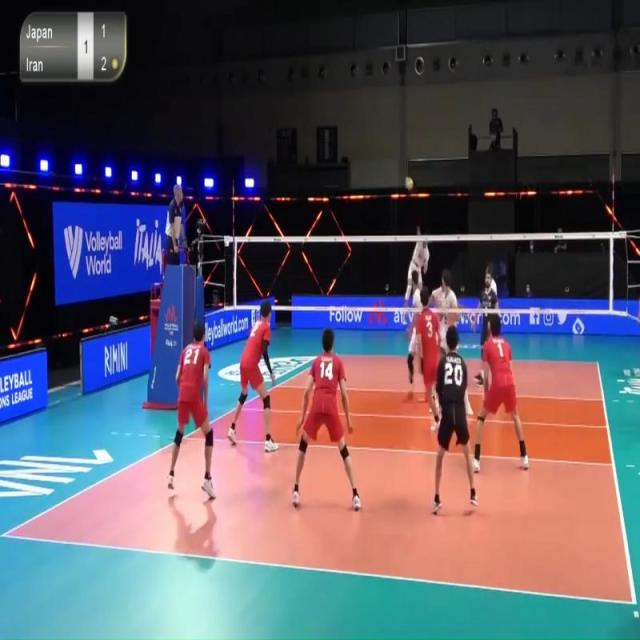volleyball: (404, 174, 415, 192)
